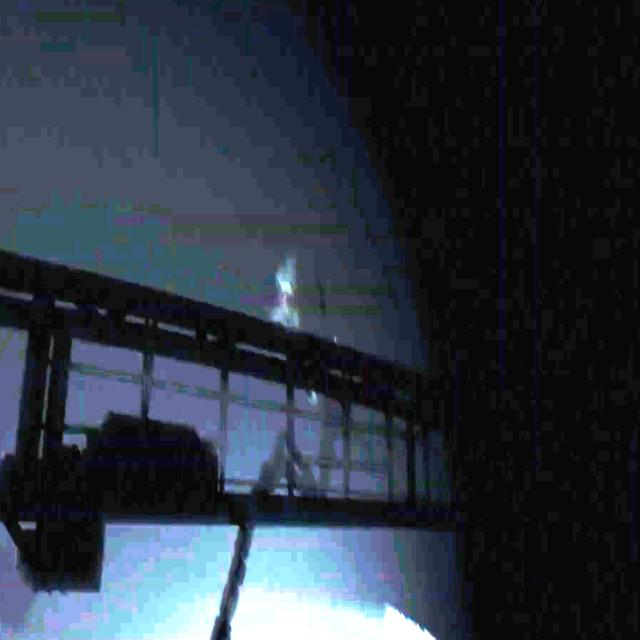mechanism: (215, 446, 296, 640), (9, 520, 102, 594)
structure: (0, 240, 528, 524)
